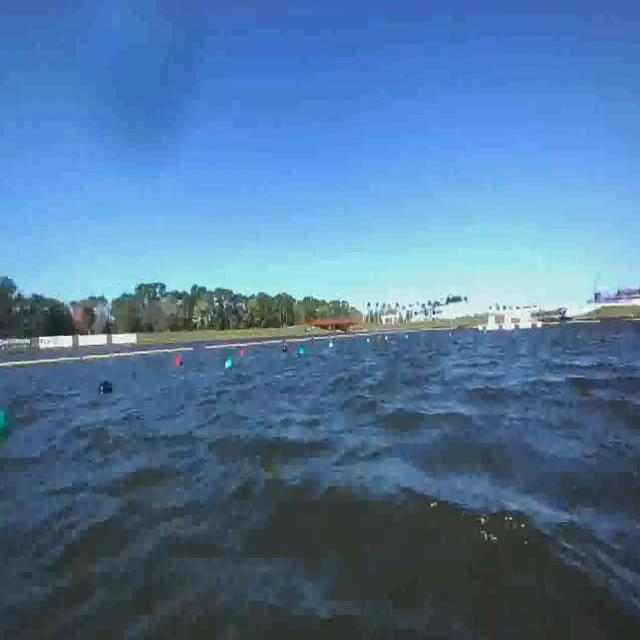black-buoy: (99, 380, 114, 395)
green-buoy: (0, 411, 9, 438), (224, 356, 232, 369)
red-buoy: (174, 352, 184, 367)
